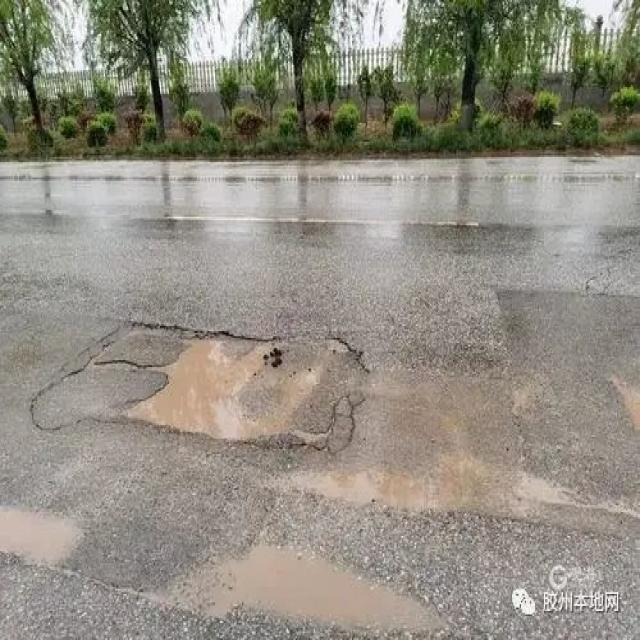Pothole: (60, 318, 376, 458)
